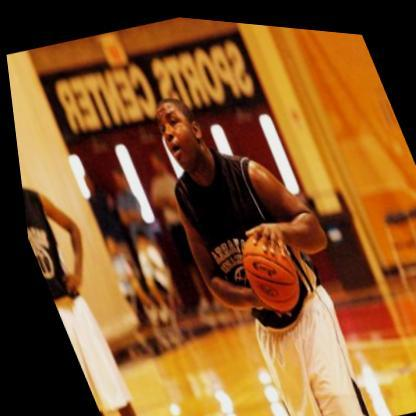basketball: (222, 215, 310, 320)
